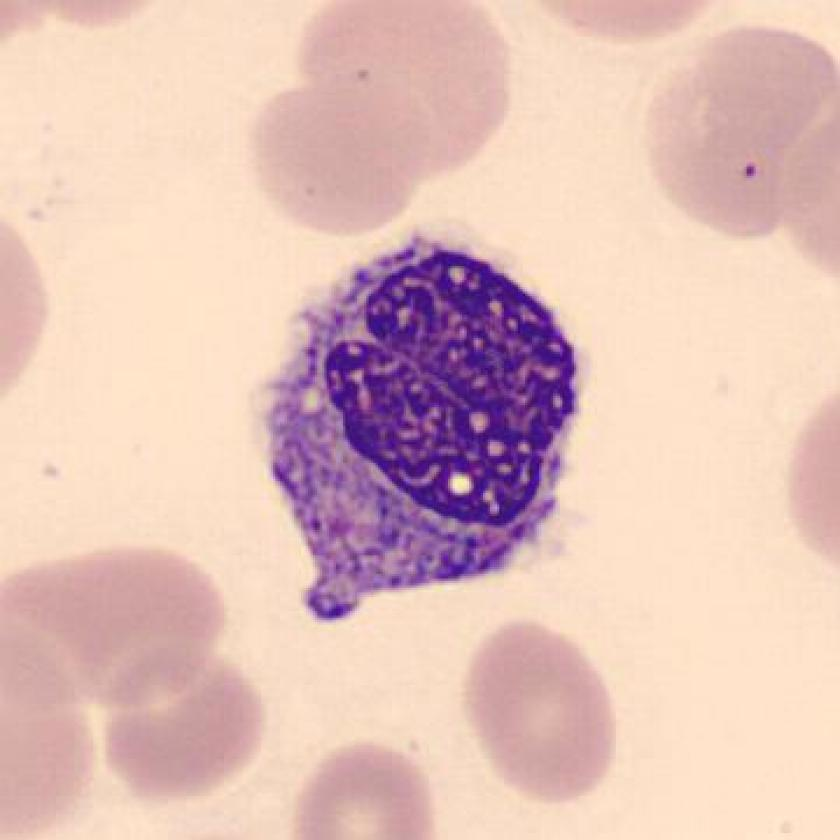monocyte: (230, 202, 612, 642)
